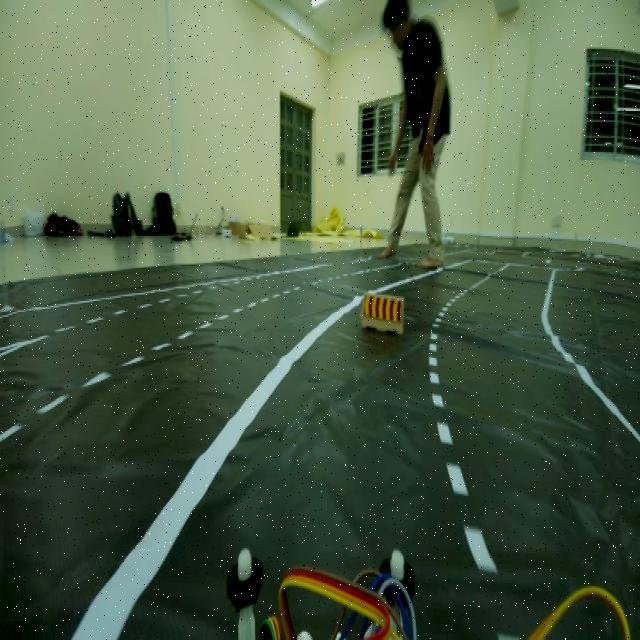roadblock: (360, 286, 411, 338)
